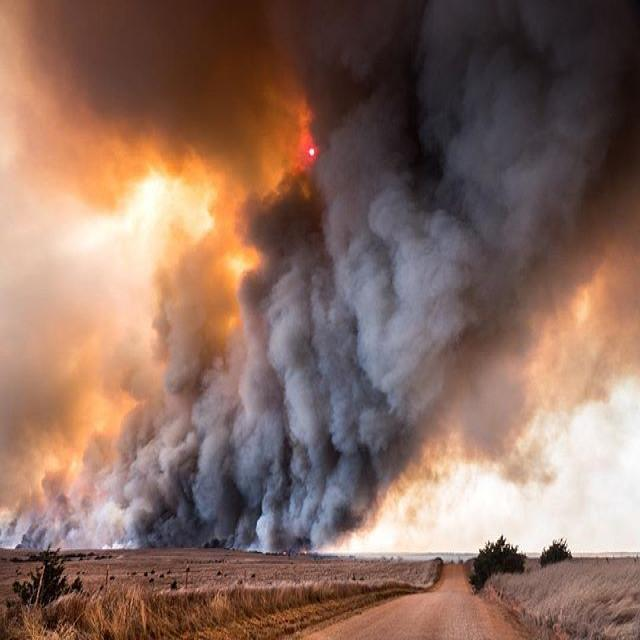Smoke: (21, 22, 614, 543)
